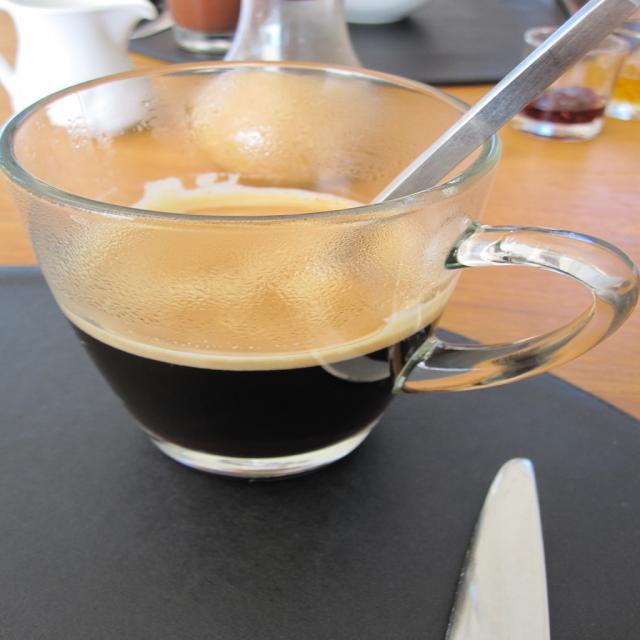Coffee: (49, 190, 466, 458)
